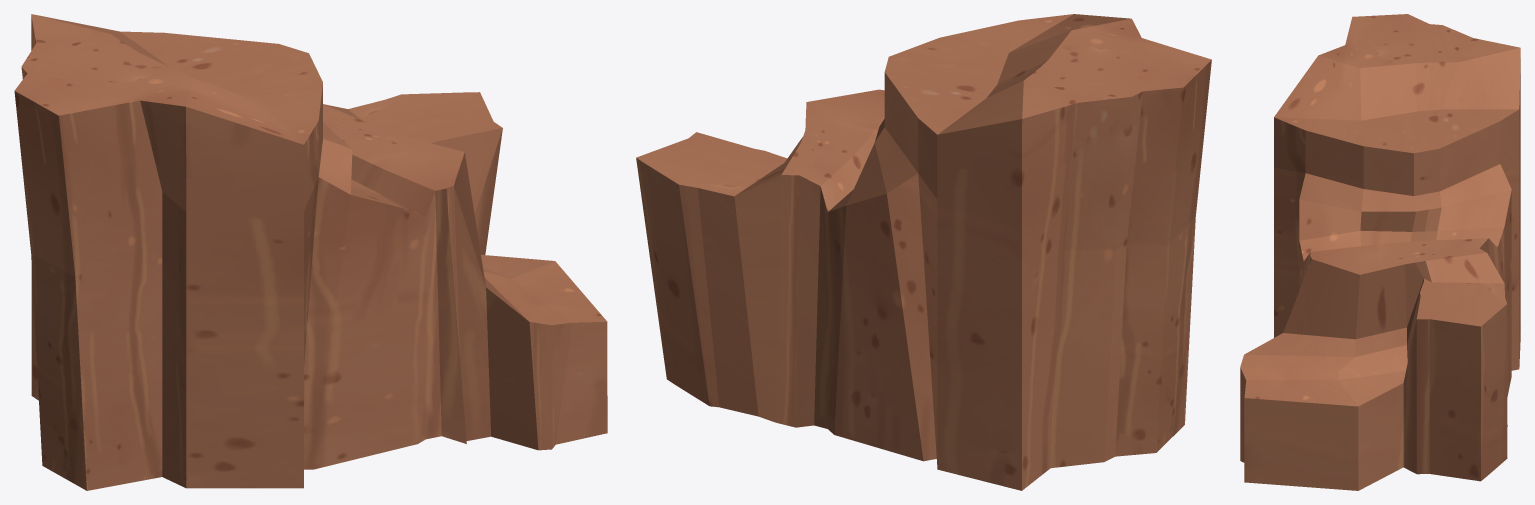
The model's file is big_rock04.fbx.
3 renders of one model, left to right at view 1: azimuth 30°, elevation 25°; view 2: azimuth 150°, elevation 25°; view 3: azimuth 270°, elevation 25°, orthographic. The views are drawn at different scales.
Parts seen in each view (by area): view 1: big_rock04; view 2: big_rock04; view 3: big_rock04.
Boxes of the visible parts, x1=… form: big_rock04: x1=14, y1=14, x2=607, y2=490; big_rock04: x1=636, y1=14, x2=1211, y2=490; big_rock04: x1=1240, y1=14, x2=1520, y2=490.
Size of the model in its own units: 2.56 by 1.6 by 1.82.
